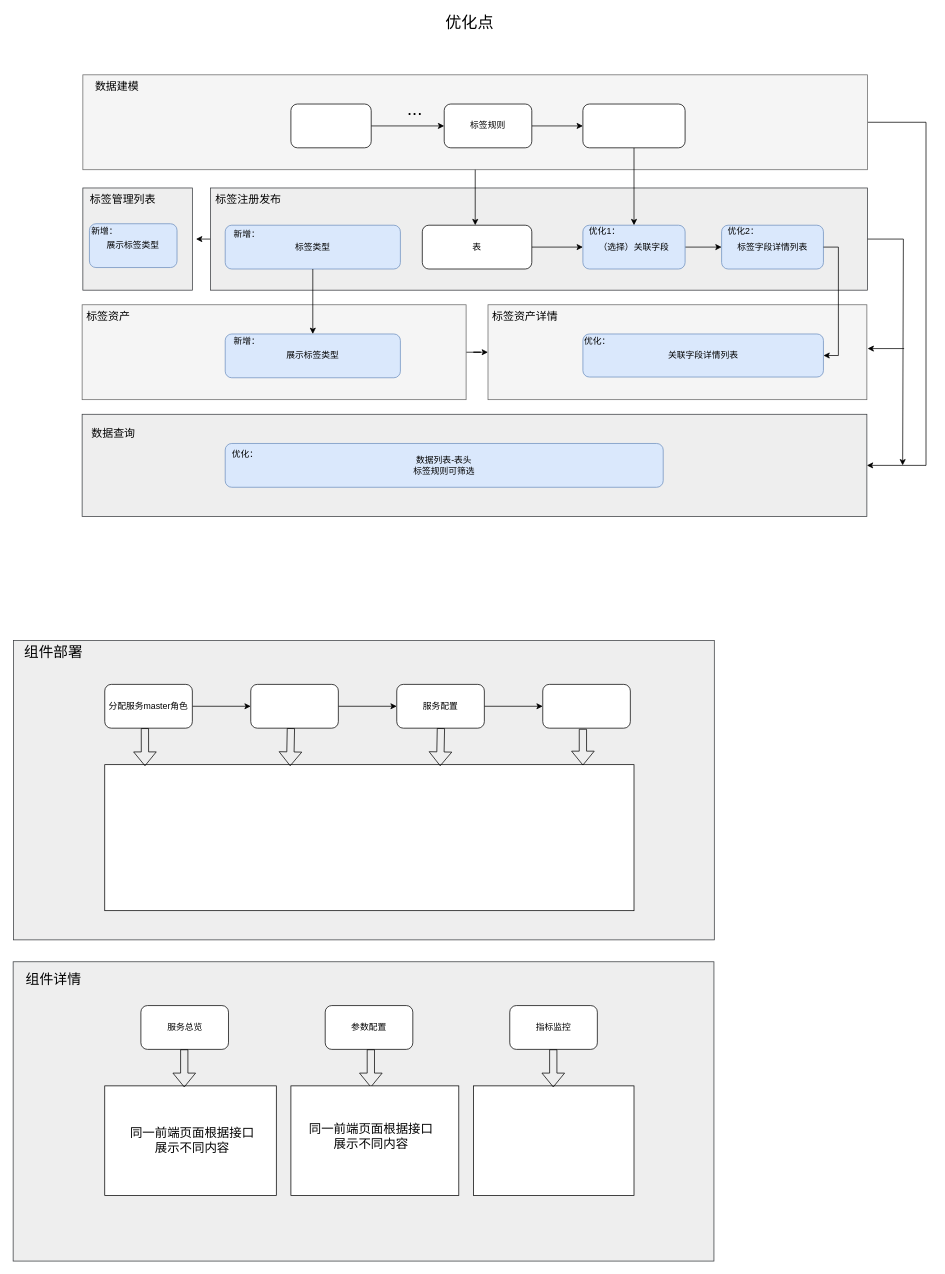
Some shapes in this 945 by 1274 pixel diagram are drawn without their labels. The shapes that lost their labels are listed below. From the top down, each one's centre as x and y in pixels, then its label:
At pixel 330 125: "新建表".
At pixel 633 125: "关联标签字段".
At pixel 294 706: "分配服务Worker与Client角色".
At pixel 586 706: "安装并启动服务".
At pixel 369 837: "1. 根据接口展示不同配置内容 2.不同组件下若此步骤步骤，跳过该步骤 3.安装启动成功；安装启动失败，删除该服务重新安装启动".
At pixel 553 1140: "1. 只有HDFS、YARN才有指标监控 2.不同组件展示不同页面".
